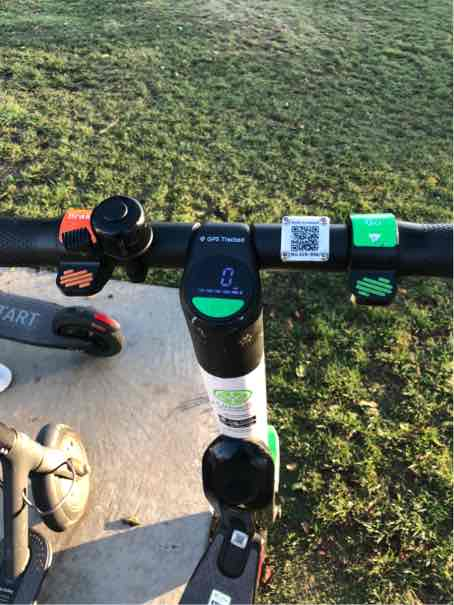scooter: (0, 147, 446, 580)
